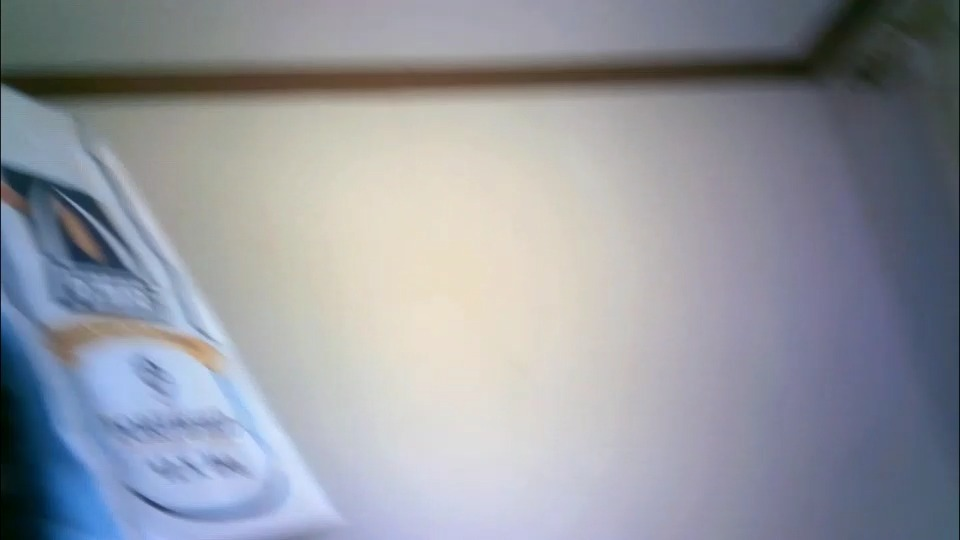wheat_flour_blue_label: (2, 79, 351, 539)
